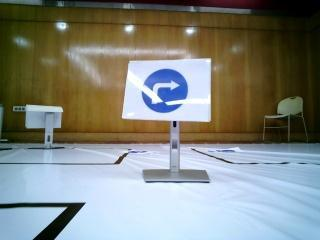right: (129, 62, 206, 122)
